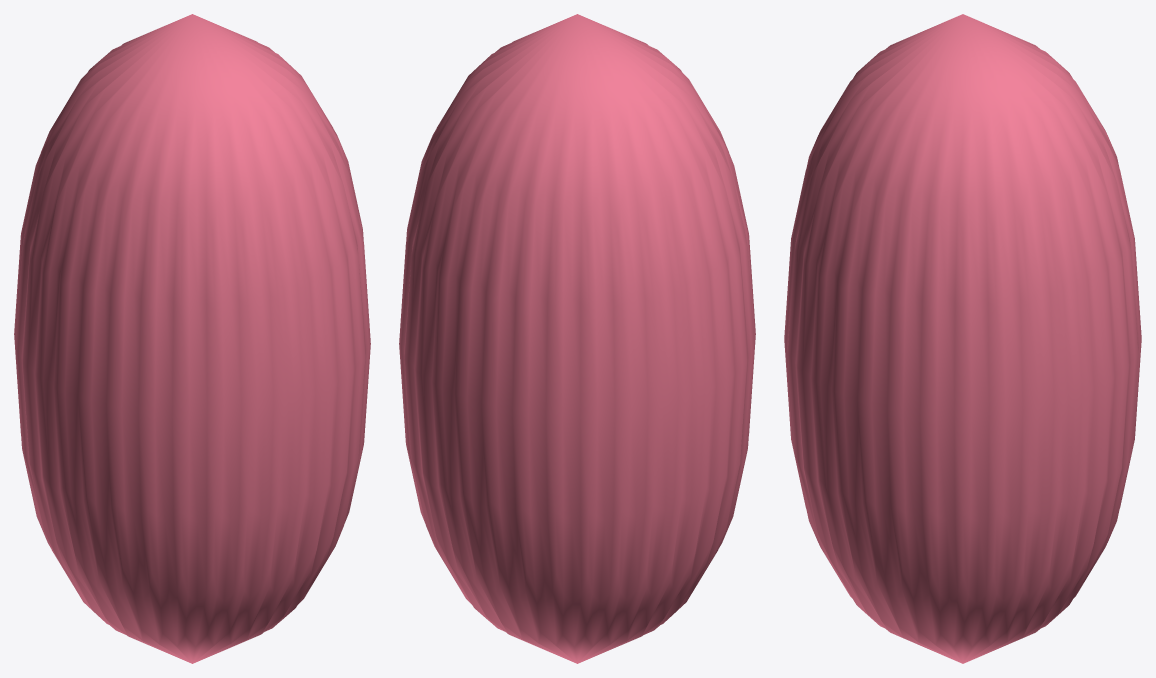
File: outfit_hanbok_modern.glb
3 views of the same model, side by side, from view 1: azimuth 30°, elevation 25°; view 2: azimuth 150°, elevation 25°; view 3: azimuth 270°, elevation 25° (orthographic).
Parts seen in each view (by area): view 1: Cylinder; view 2: Cylinder; view 3: Cylinder.
Boxes of the visible parts, x1,y1,x2,y2 form: Cylinder: (14, 14, 370, 663); Cylinder: (399, 14, 755, 663); Cylinder: (784, 14, 1141, 663).
Size of the model in its own units: 0.527 by 1.06 by 0.527.
